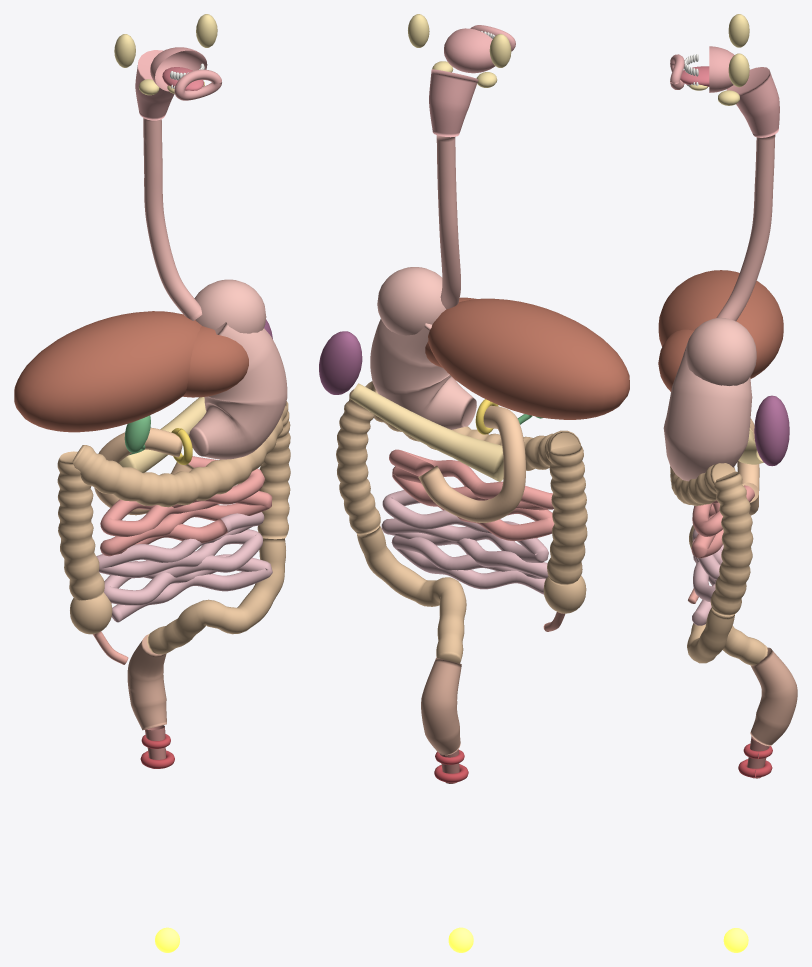
The model's file is DIGESTIVE.glb.
The picture shows the model from 3 angles, left to right: view 1: azimuth 30°, elevation 25°; view 2: azimuth 150°, elevation 25°; view 3: azimuth 270°, elevation 25°; orthographic projection.
Parts seen in each view (by area): view 1: static, stomach; view 2: static, stomach; view 3: static, stomach, marker.
Part boxes in pixels (bbox=[...]): static: bbox=[14, 14, 290, 768]; stomach: bbox=[189, 279, 287, 459]; static: bbox=[319, 14, 629, 783]; stomach: bbox=[370, 267, 476, 429]; static: bbox=[658, 14, 797, 778]; stomach: bbox=[663, 317, 756, 481]; marker: bbox=[723, 928, 748, 952].
Bounding box in the file's own units: 0.5319 × 1.69 × 0.2328.
